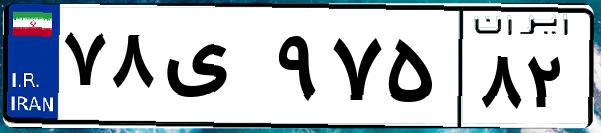2: (525, 38, 570, 115)
5: (385, 28, 445, 110)
7: (330, 28, 385, 110), (57, 26, 110, 100)
8: (475, 38, 525, 113), (110, 28, 158, 98)
9: (270, 28, 330, 110)
ی: (158, 20, 270, 120)
